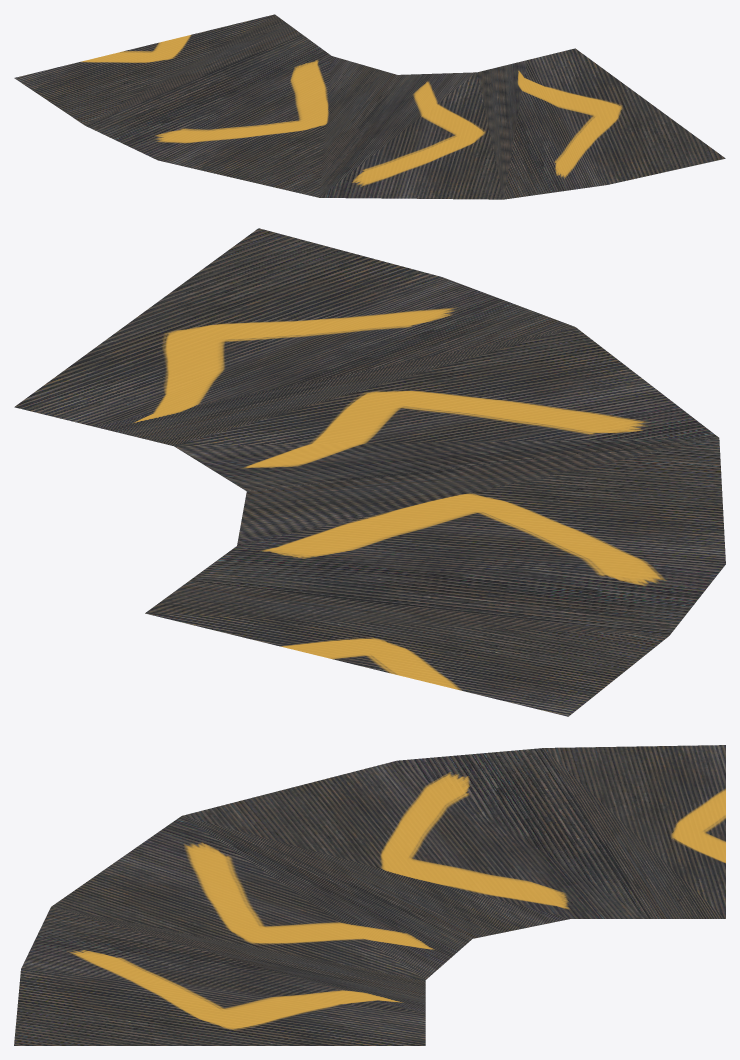
File: Belt_Conv90.FBX
The picture shows the model from 3 angles, top to bottom: view 1: azimuth 30°, elevation 25°; view 2: azimuth 150°, elevation 25°; view 3: azimuth 270°, elevation 25°; orthographic projection. The views are drawn at different scales.
Visible parts, largest first — view 1: Belt_Conv091; view 2: Belt_Conv091; view 3: Belt_Conv091.
Boxes of the visible parts, x1,y1,x2,y2 form: Belt_Conv091: (14,14,725,199); Belt_Conv091: (14,228,725,716); Belt_Conv091: (14,745,725,1045).
Bounding box in the file's own units: 2.59 × 1.45e-07 × 2.59.
1 material, 1 textured.
